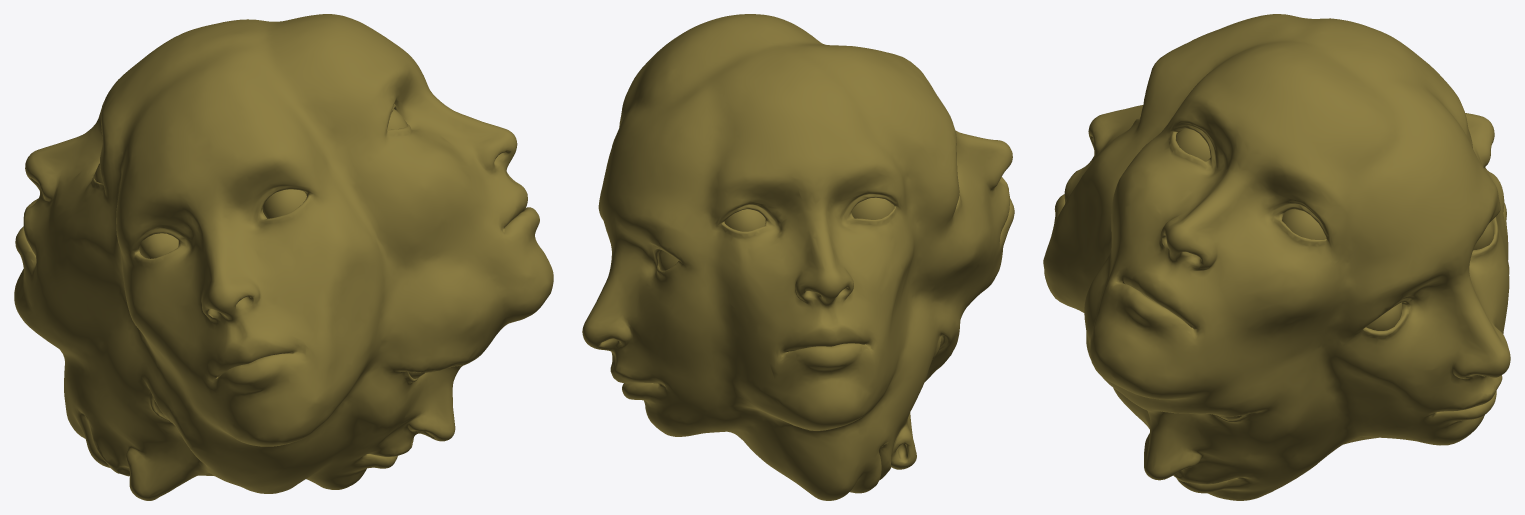
The model's file is orb.fbx.
The picture shows the model from 3 angles, left to right: view 1: azimuth 30°, elevation 25°; view 2: azimuth 150°, elevation 25°; view 3: azimuth 270°, elevation 25°; orthographic projection. The views are drawn at different scales.
Visible parts, largest first — view 1: Exalted_Orb.001; view 2: Exalted_Orb.001; view 3: Exalted_Orb.001.
Boxes of the visible parts, bbox=[...] form: Exalted_Orb.001: bbox=[14, 14, 553, 500]; Exalted_Orb.001: bbox=[582, 14, 1014, 500]; Exalted_Orb.001: bbox=[1043, 14, 1510, 500].
Bounding box in the file's own units: 1646 × 1824 × 1742.
